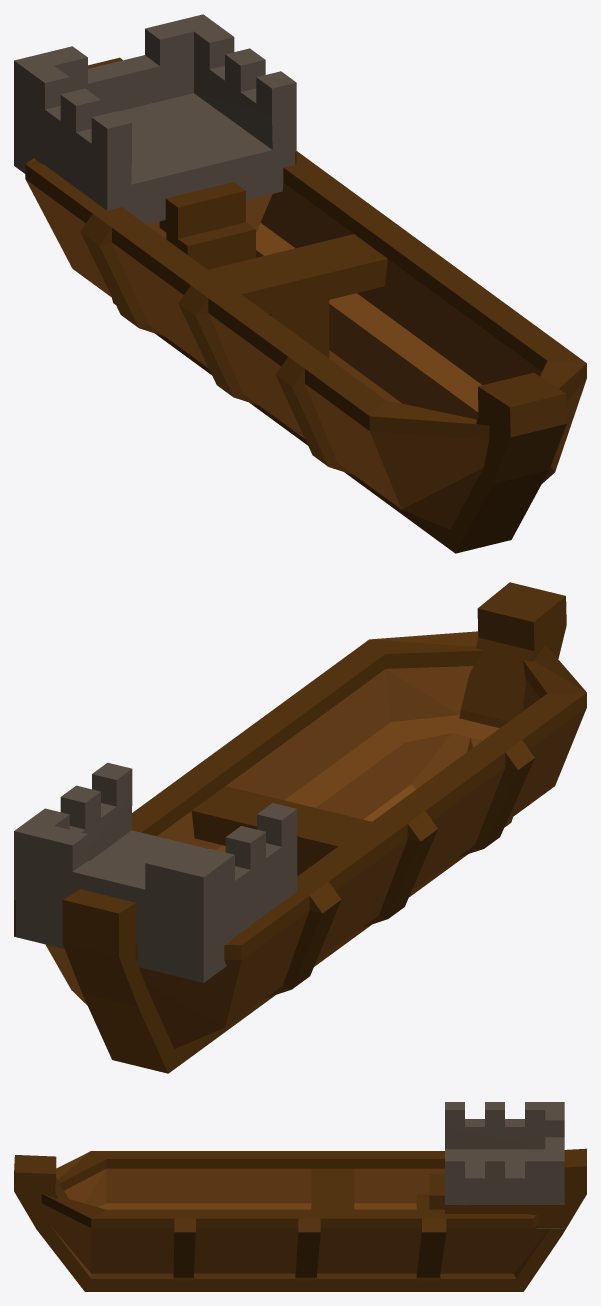
File: RaiderBoat.fbx
3 views of the same model, one above another, from view 1: azimuth 30°, elevation 25°; view 2: azimuth 150°, elevation 25°; view 3: azimuth 270°, elevation 25° (orthographic). The views are drawn at different scales.
Parts seen in each view (by area): view 1: pCylinder2; view 2: pCylinder2; view 3: pCylinder2.
Boxes of the visible parts, <box> form: pCylinder2: <box>14,14,586,553</box>; pCylinder2: <box>14,582,586,1073</box>; pCylinder2: <box>14,1102,586,1291</box>.
Bounding box in the file's own units: 90.91 × 84.28 × 290.
Materials: 1 (1 with a texture image).
